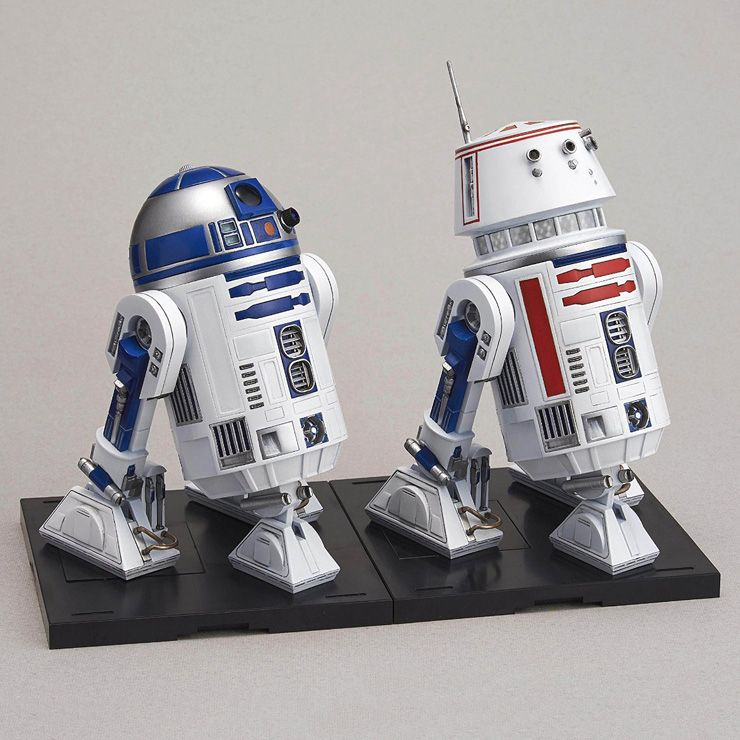r2d2: (55, 162, 349, 590)
